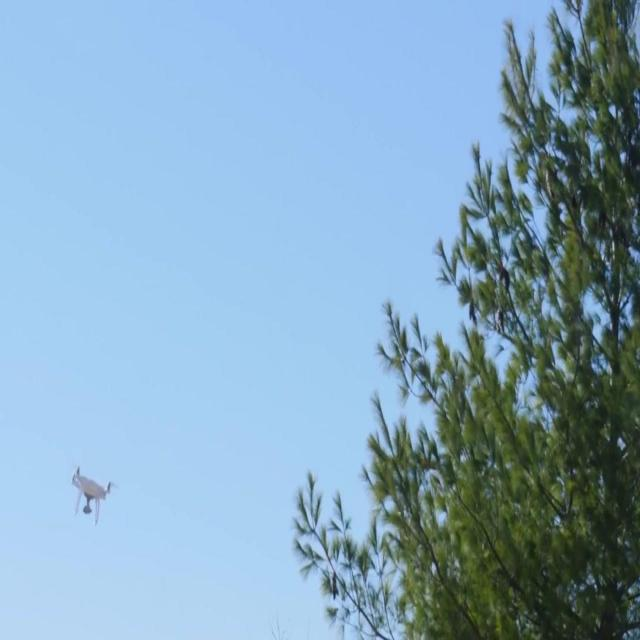UAV: (68, 461, 114, 527)
